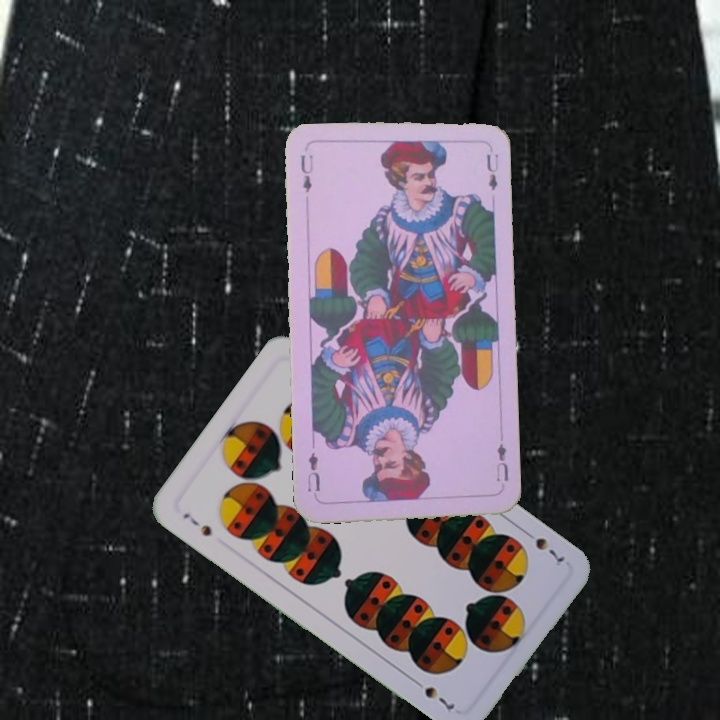EU: (296, 150, 317, 195), (492, 439, 511, 485)
S7: (519, 525, 568, 566), (179, 509, 215, 540)
